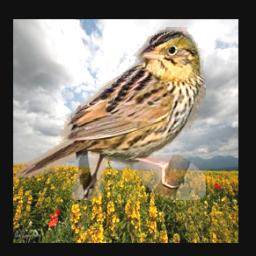Sparrow: (16, 27, 206, 200)
